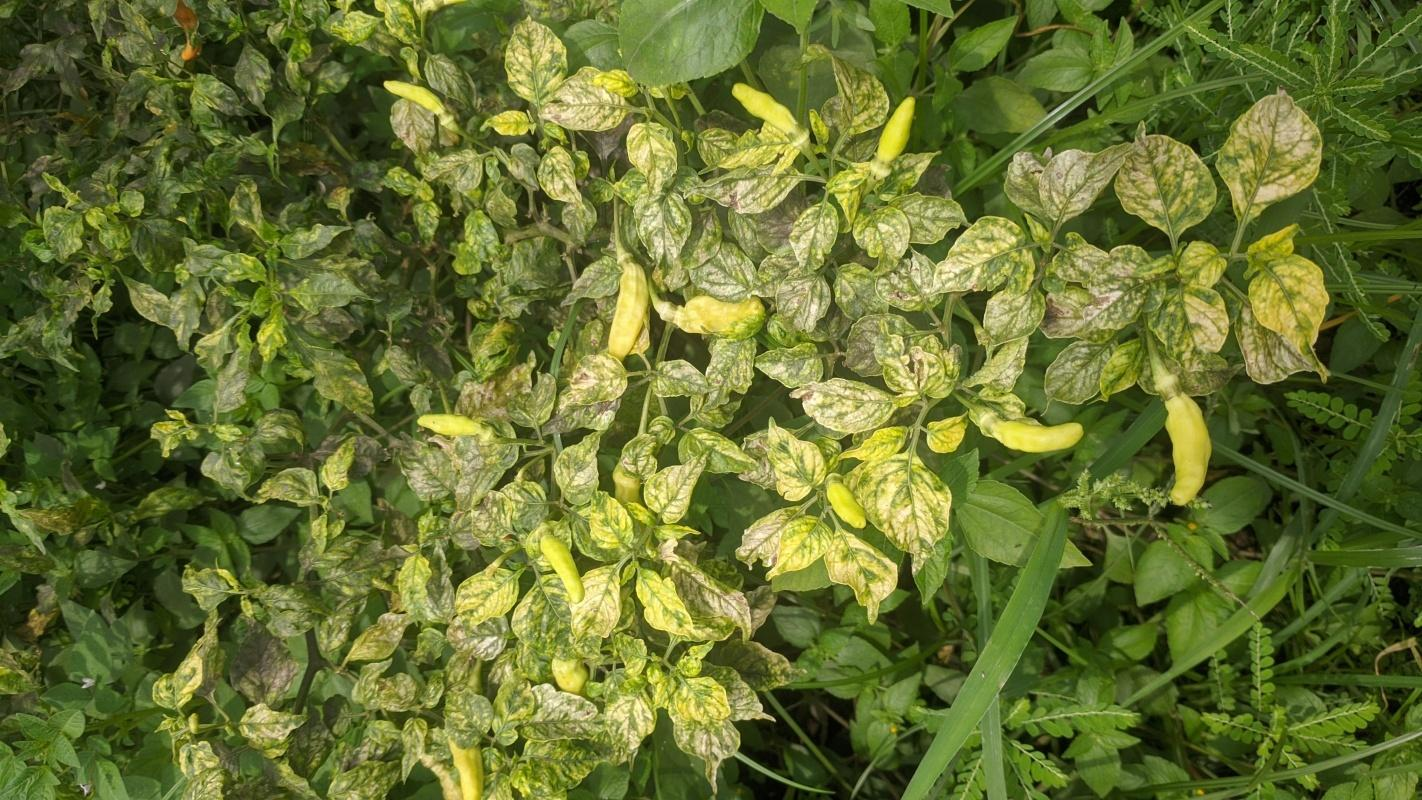cabai_normal: (209, 295, 262, 414), (339, 348, 443, 390), (774, 439, 816, 538), (624, 664, 692, 717), (658, 466, 748, 504), (838, 196, 883, 266), (506, 633, 547, 706), (970, 678, 1035, 719), (938, 1, 981, 61), (555, 271, 596, 320), (939, 362, 1005, 389), (834, 107, 873, 140)
